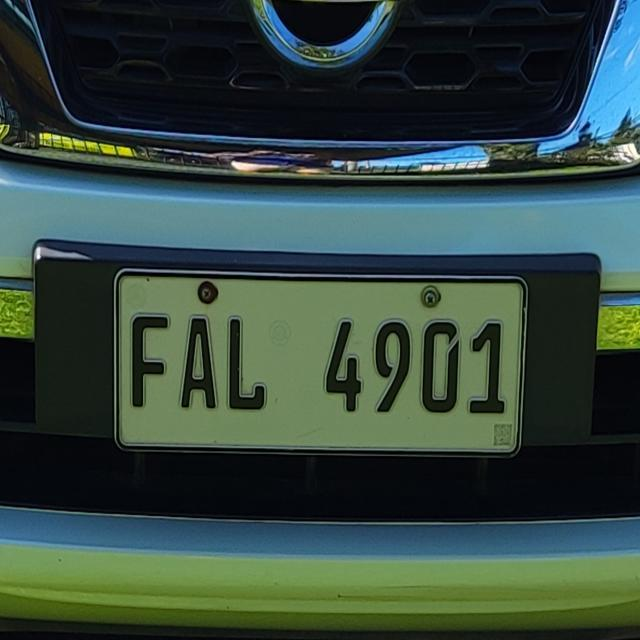LicensePlate: (97, 248, 548, 482)
